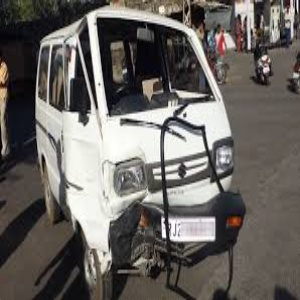bumper: (105, 197, 190, 276)
